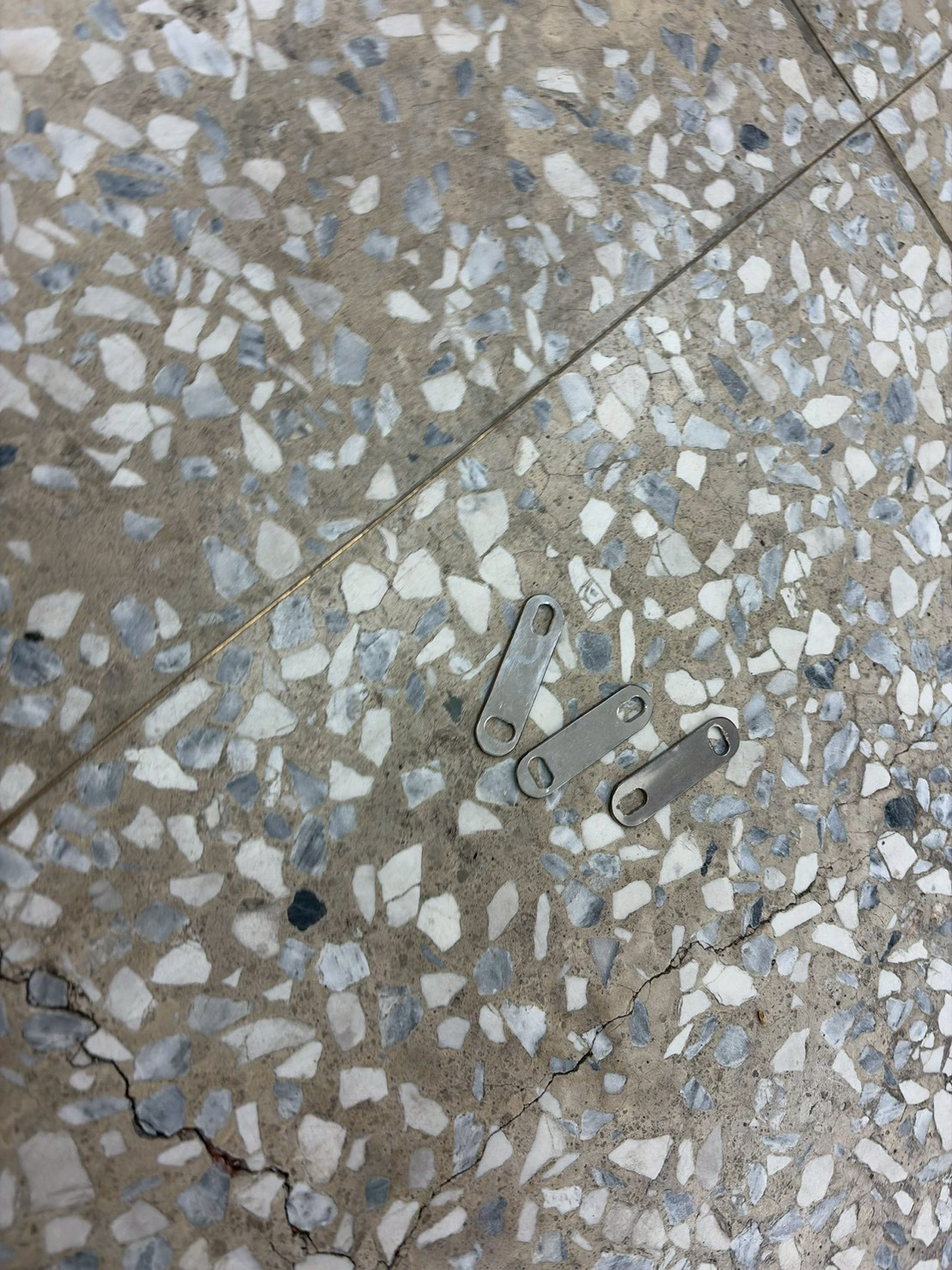Fe: (653, 670, 701, 848), (530, 583, 578, 760), (735, 707, 783, 884)
